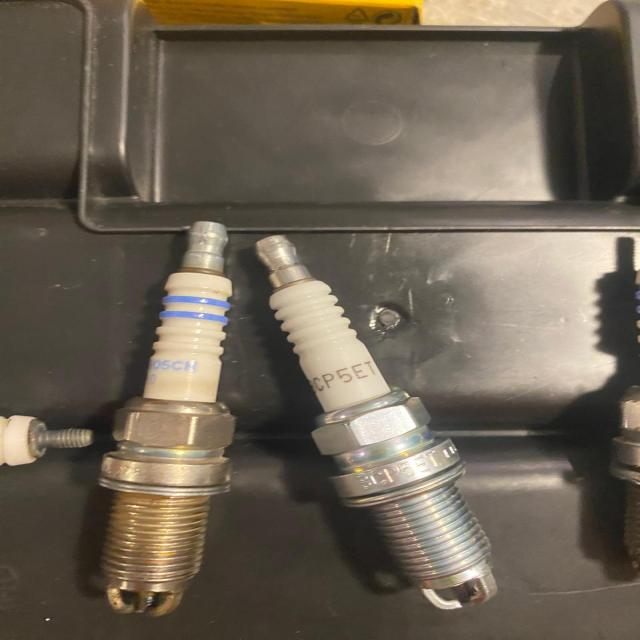spark-plug: (248, 226, 525, 622), (69, 213, 245, 631)
